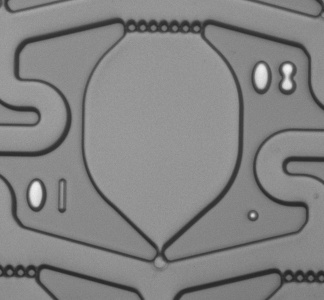AptNum: (248, 55, 304, 105)
Marker: (242, 205, 265, 227)
StNum: (23, 172, 74, 220)
Trap: (137, 251, 186, 294)
